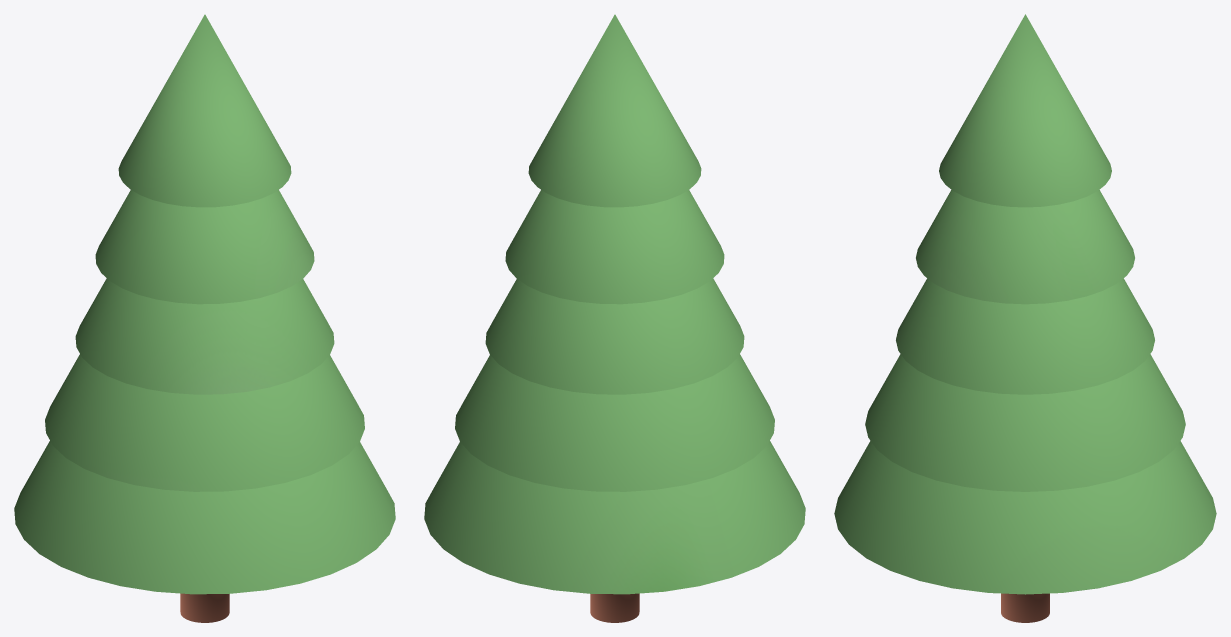
The model's file is kuusi.fbx.
The picture shows the model from 3 angles, left to right: view 1: azimuth 30°, elevation 25°; view 2: azimuth 150°, elevation 25°; view 3: azimuth 270°, elevation 25°; orthographic projection.
Parts seen in each view (by area): view 1: Kuusi; view 2: Kuusi; view 3: Kuusi.
Part boxes in pixels (x1,y1,x2,y2): Kuusi: [14, 14, 395, 622]; Kuusi: [424, 14, 805, 622]; Kuusi: [834, 14, 1216, 622].
Bounding box in the file's own units: 95.24 × 165 × 95.24.
